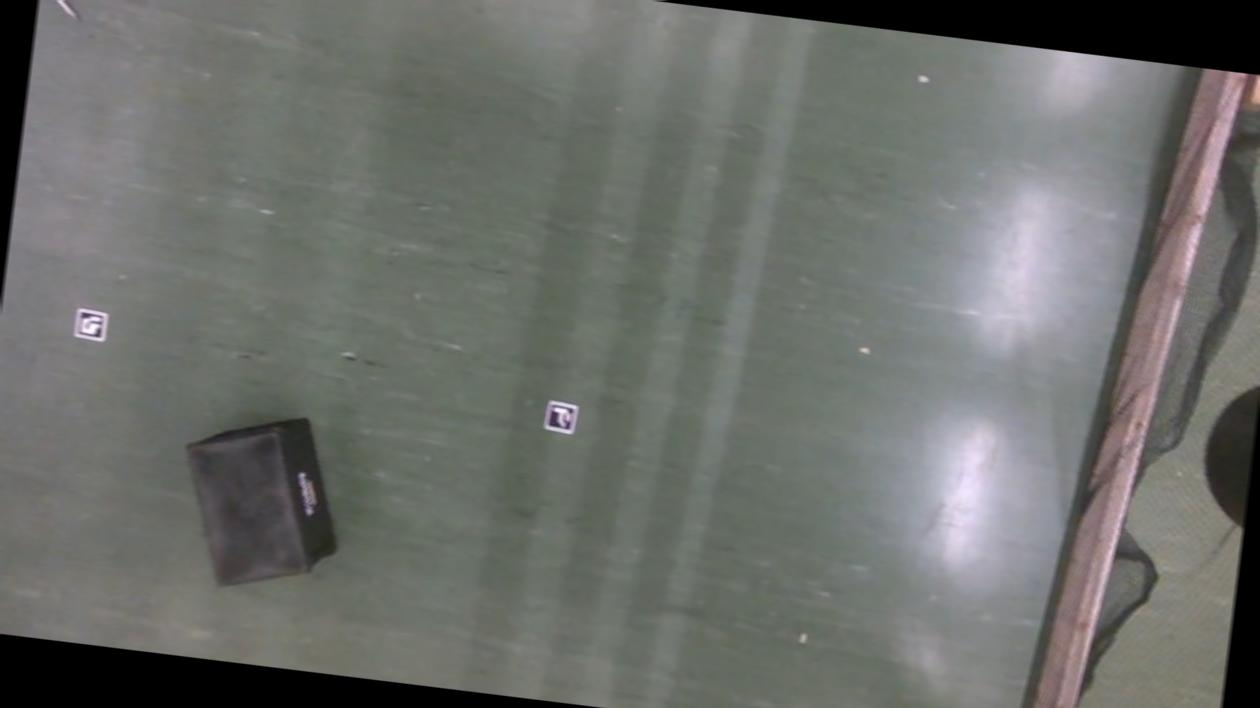probes: (35, 0, 84, 22)
rako: (166, 402, 352, 600)
